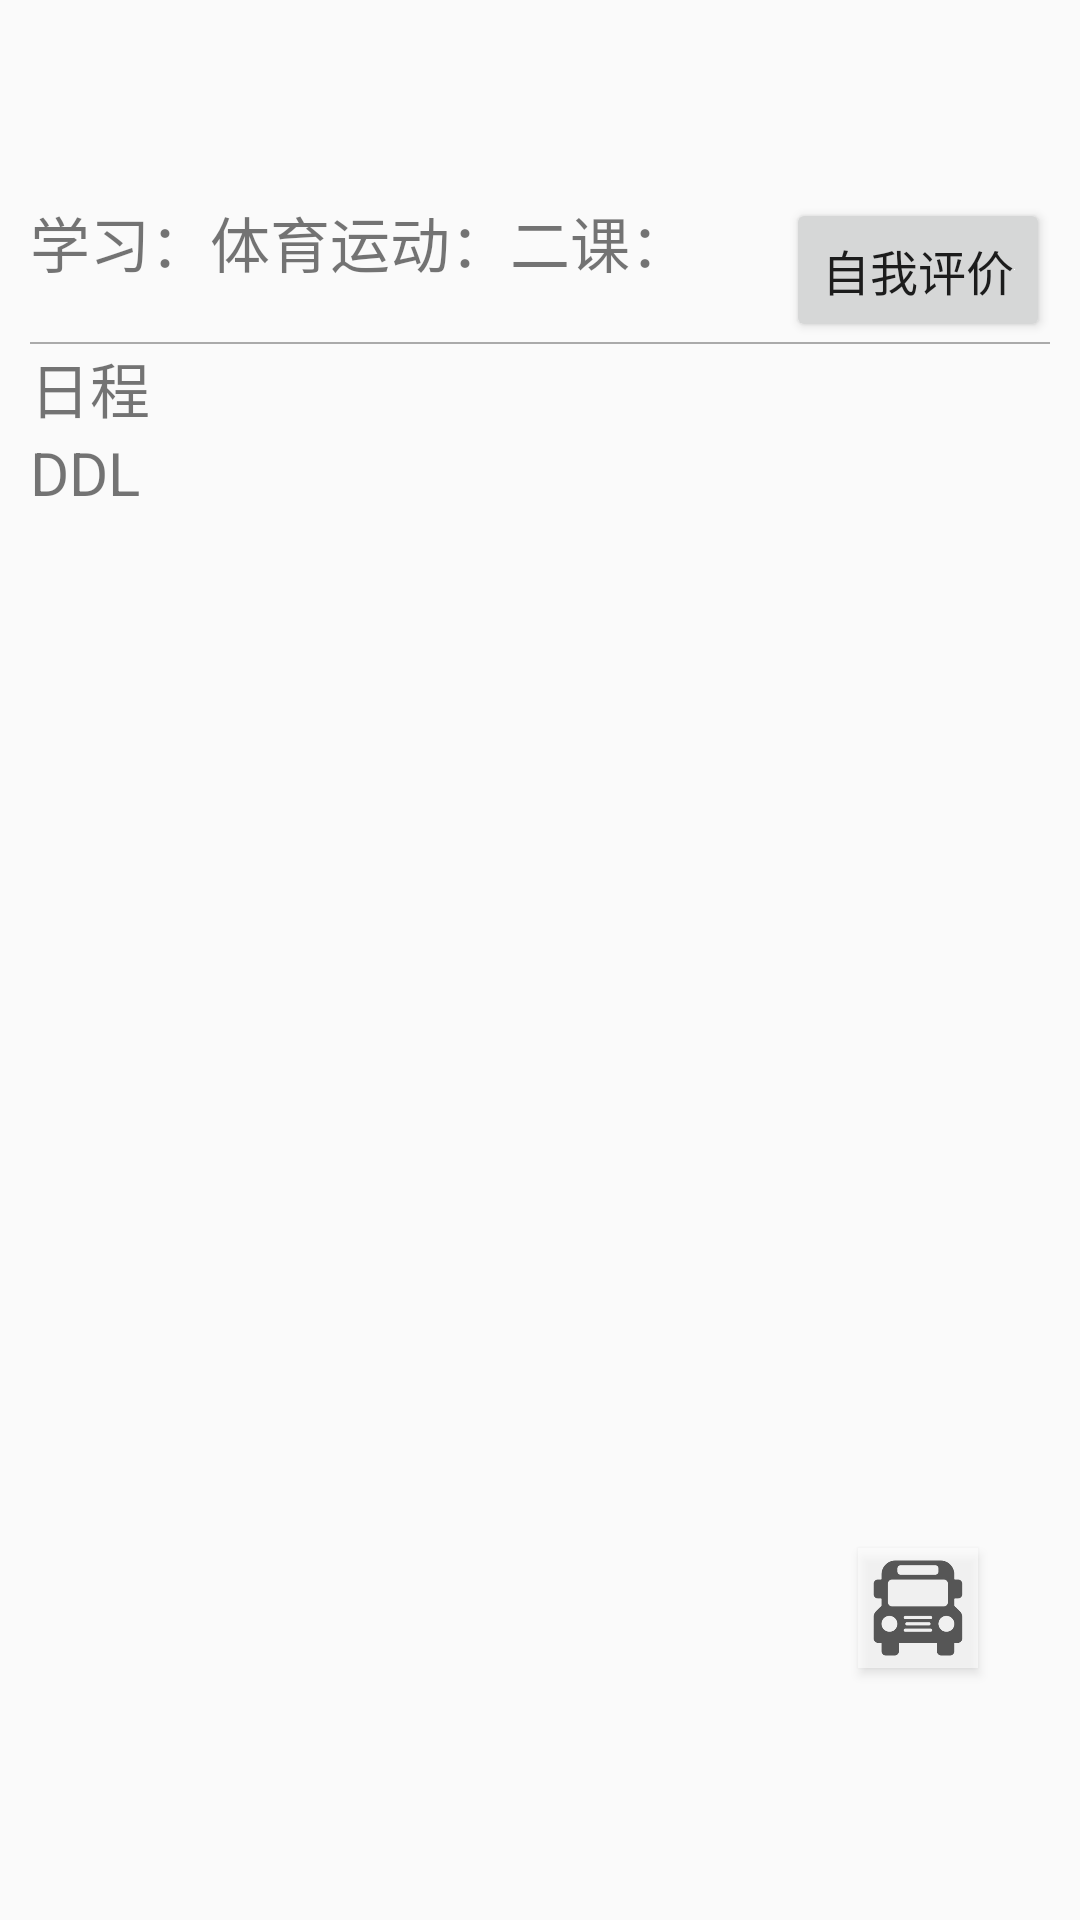

Named icons in this screenshot (1080px x 1920px) and their centers, [x,y]:
school bus: [918,1608]
